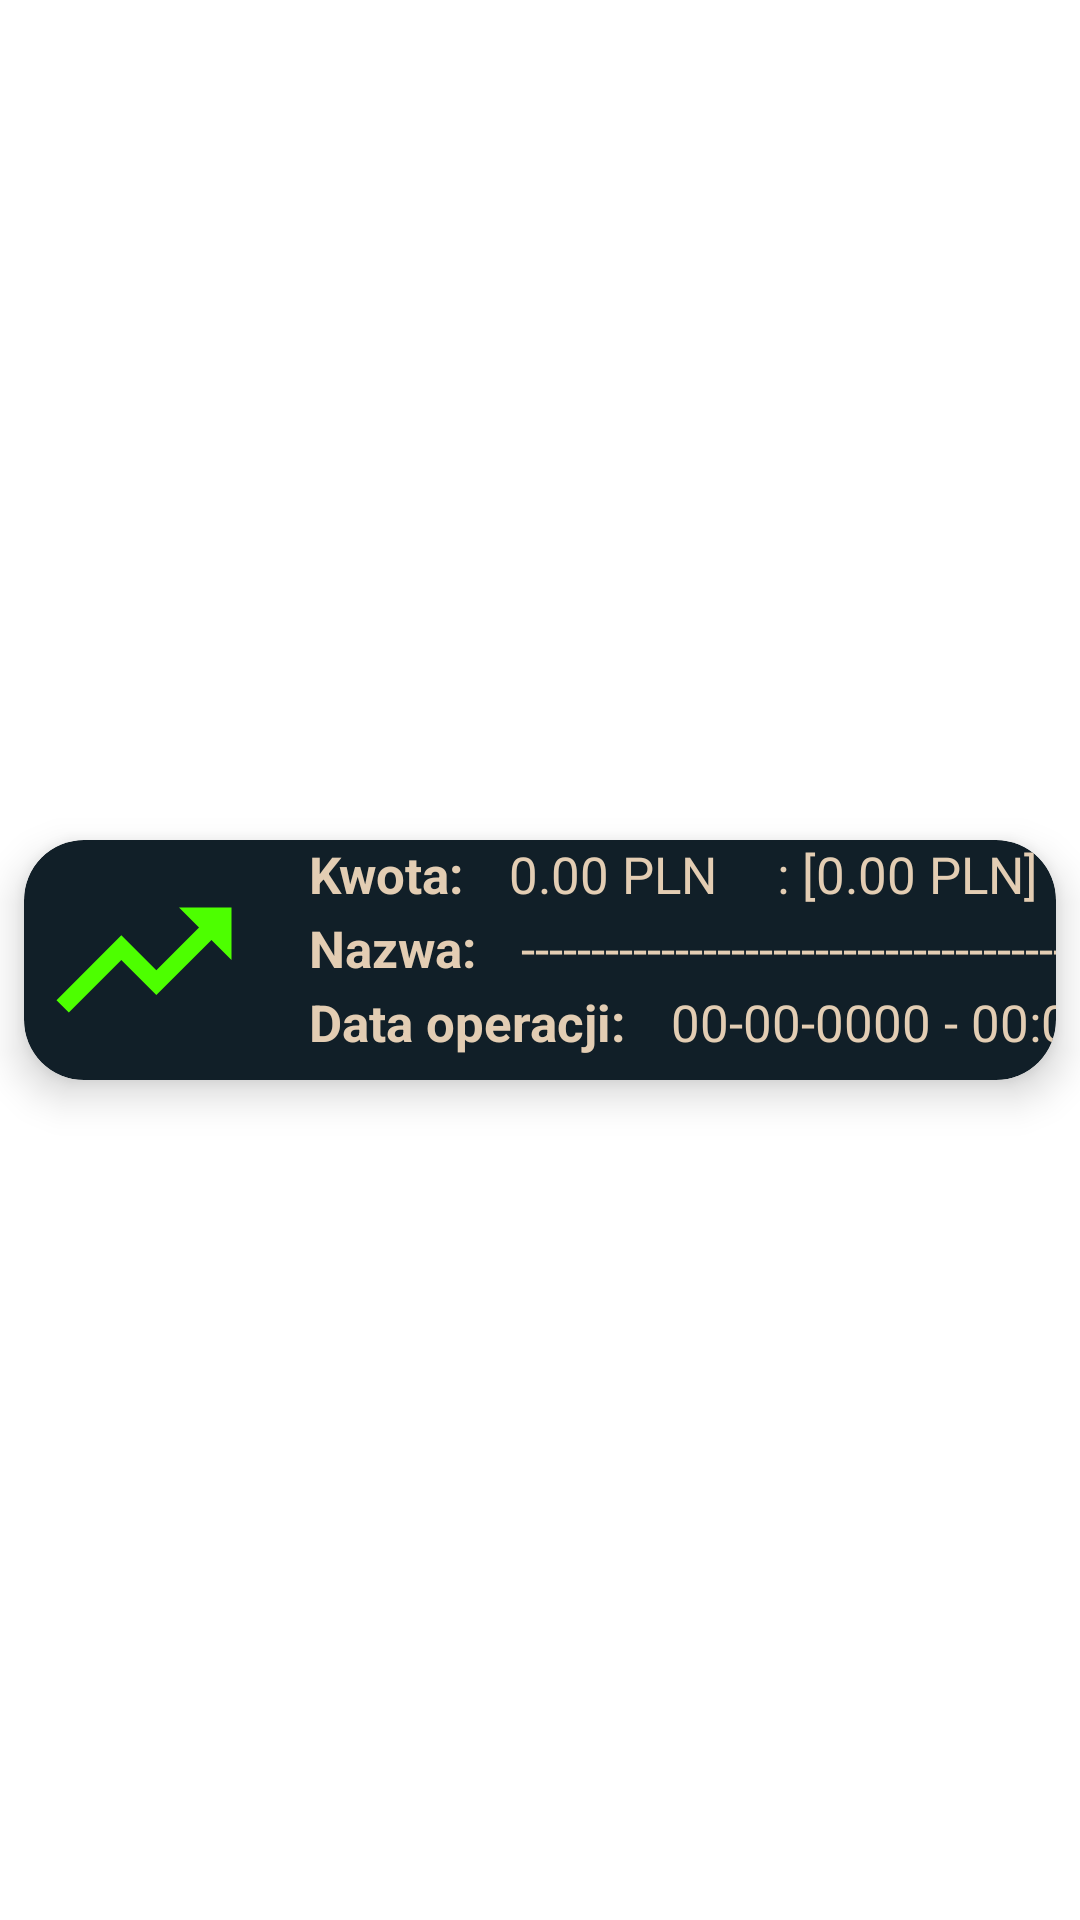

Where to tap for icons on this 1080px x 1920px app screen, as [x,y]:
wplata: [144,960]
